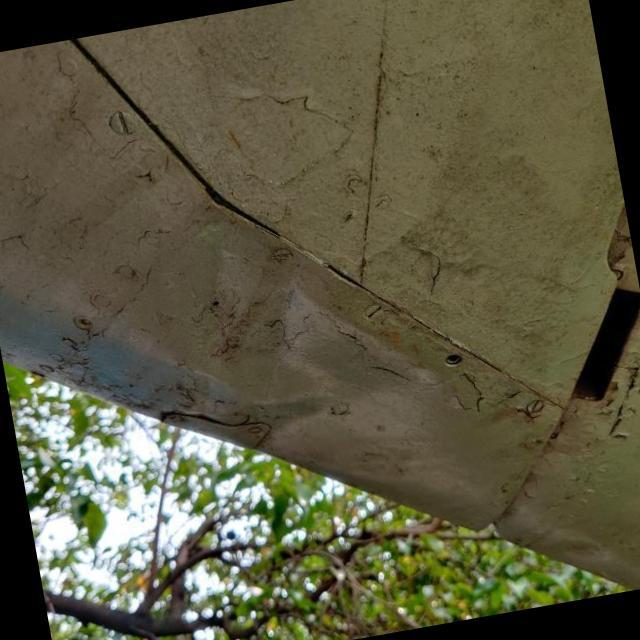Dent: (170, 242, 430, 485)
Fastener Damage: (424, 333, 481, 381)
